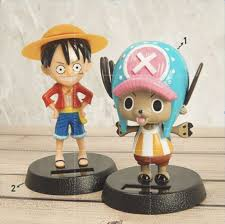chopper: (101, 40, 204, 138)
luffy: (19, 23, 109, 87)
